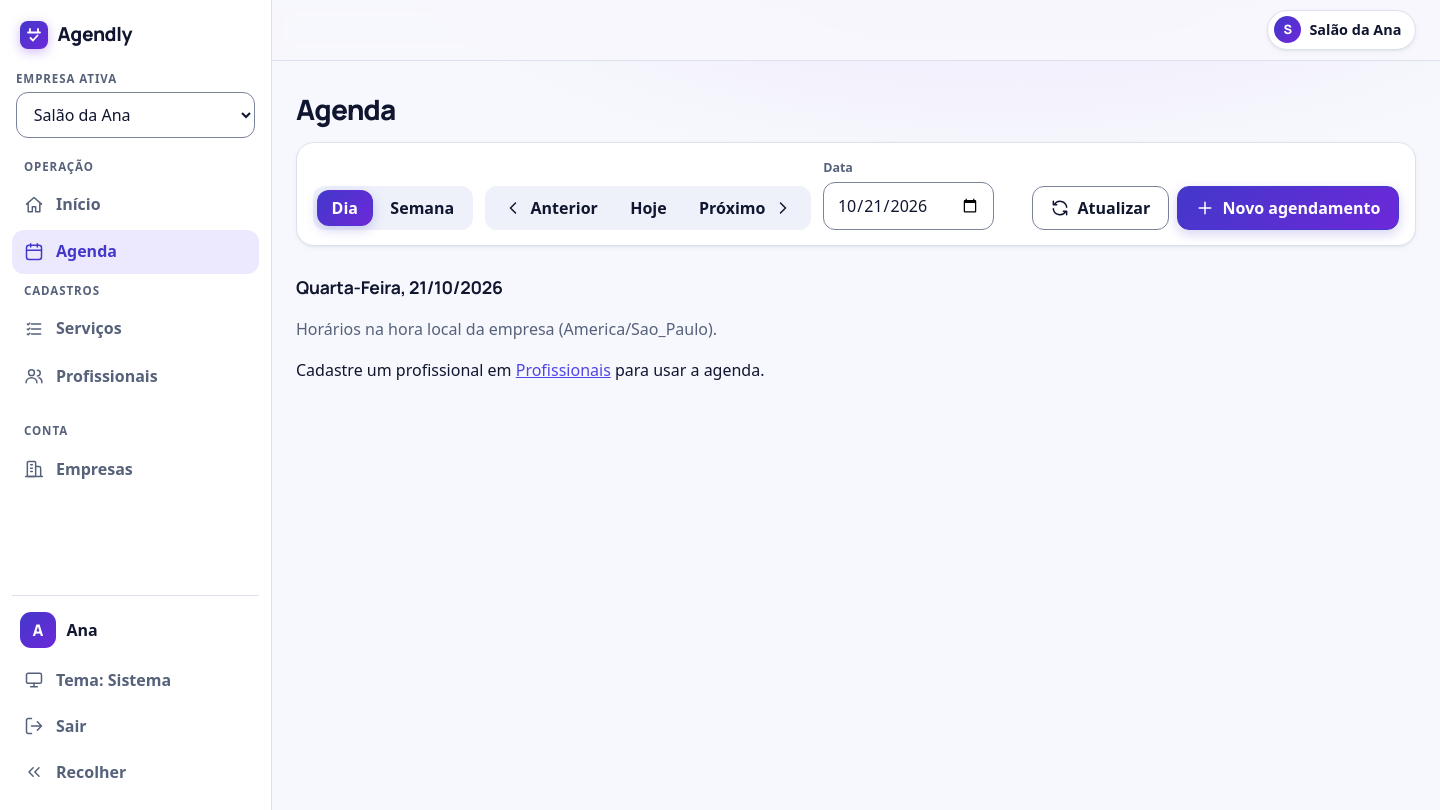
Test: barra lateral › a empresa ativa é trocada pelo seletor da barra lateral e volta ao início
expect the heading "Agenda" is shown: met, box [296, 90, 396, 128]
Select "Barbearia" in the dropdown labelled "Empresa ativa" at (136, 115), box [16, 92, 255, 138]
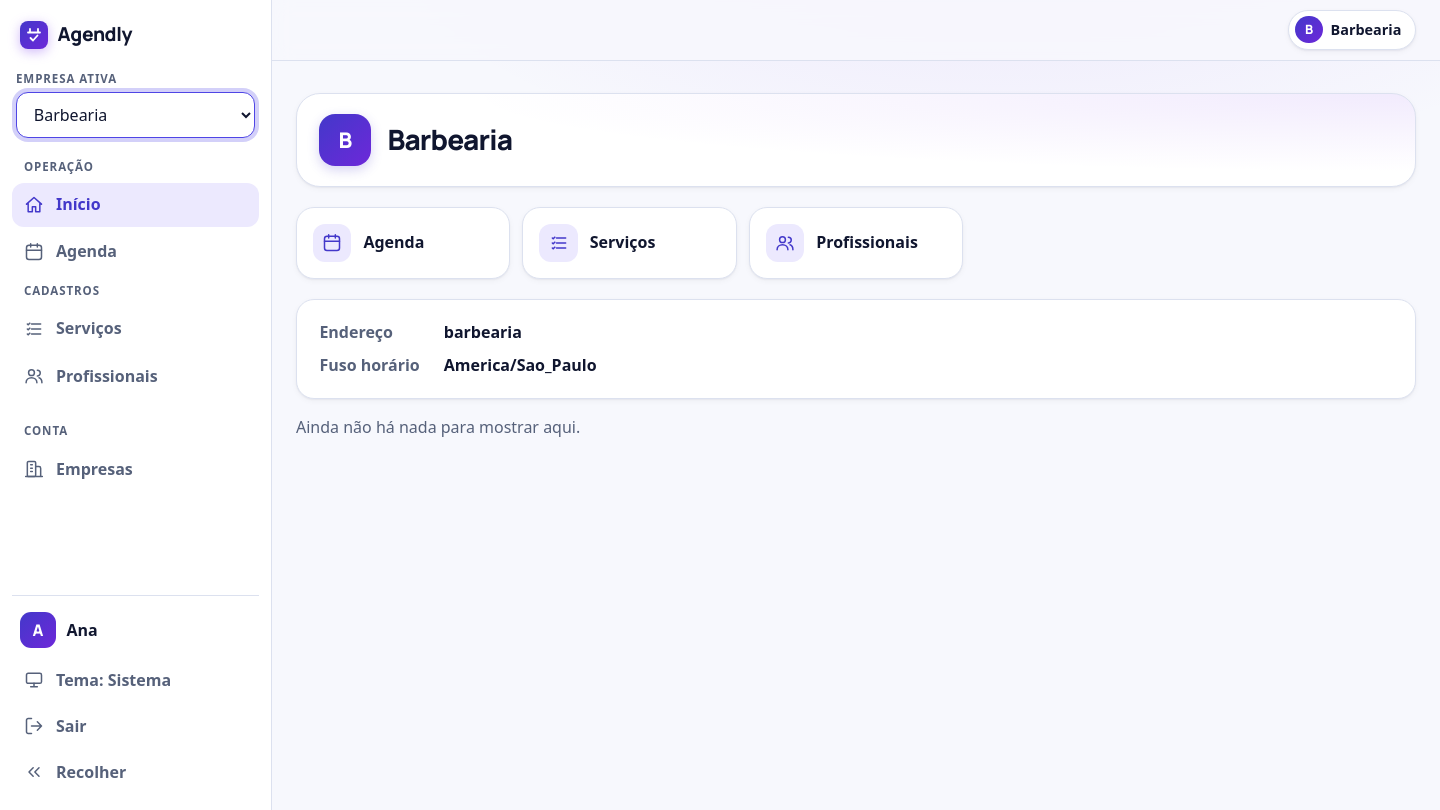
expect the heading "Barbearia" is shown: met, box [387, 123, 512, 156]
